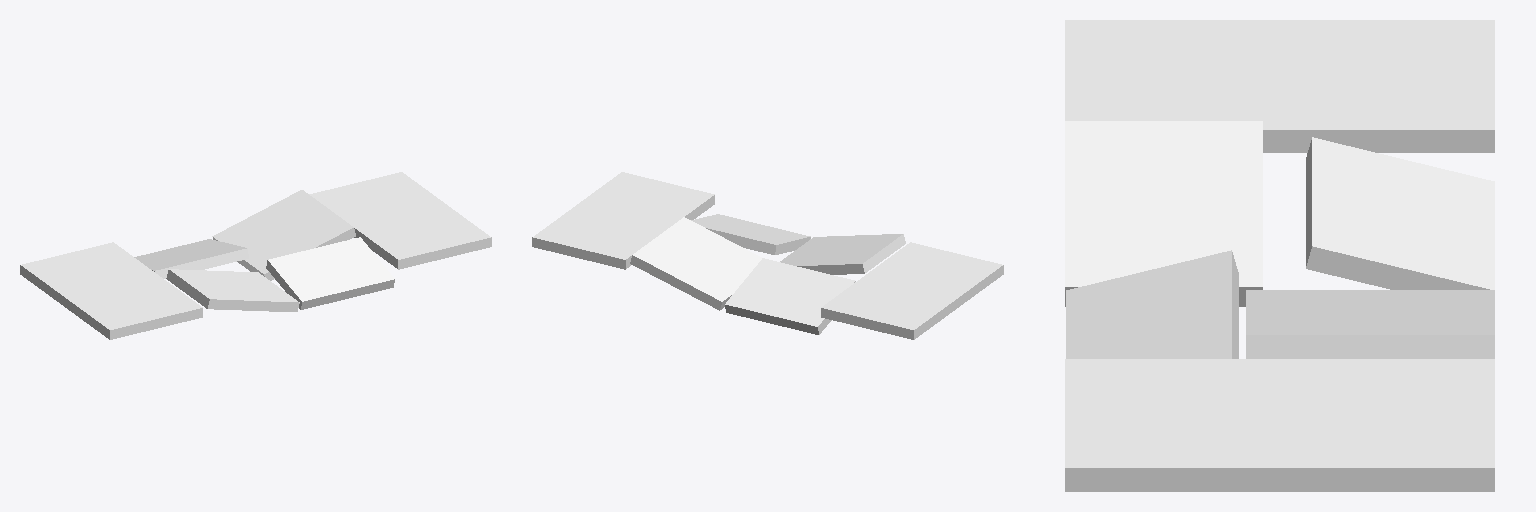
robot.urdf — stair_bauzil:
<robot name="stair_bauzil">
  <link name="base_link">
    <visual>
      <origin xyz="0 0 0" rpy="0 0 0" />
      <geometry>
        <mesh filename="package://hpp_environments/meshes/multicontact/plateforme_surfaces.stl"/>
      </geometry>
      <material name="white">
        <color rgba="1 1 1 1"/>
      </material>
    </visual>
    <collision>
      <origin xyz="0 0 0" rpy="0 0 0" />
      <geometry>
        <mesh filename="package://hpp_environments/meshes/multicontact/plateforme_surfaces_scale.stl"/>
      </geometry>
    </collision>
  </link>
</robot>

--- Render facts (derived) ---
3 views of the same robot in one strip: view 1: azimuth 30°, elevation 25°; view 2: azimuth 150°, elevation 25°; view 3: azimuth 270°, elevation 25° (orthographic).
Model stair_bauzil with 1 links and 0 joints (none), rooted at base_link, posed every joint at zero.
Links seen in each view (by area): view 1: base_link; view 2: base_link; view 3: base_link.
Boxes of the visible links, <box> form: base_link: <box>20,172,491,339</box>; base_link: <box>532,172,1003,339</box>; base_link: <box>1065,20,1494,491</box>.
Bounding box of the posed robot: 1.23 × 0.5 × 0.1119 m (x, y, z).
1 mesh visuals loaded from 1 distinct referenced files (1 binary STL).